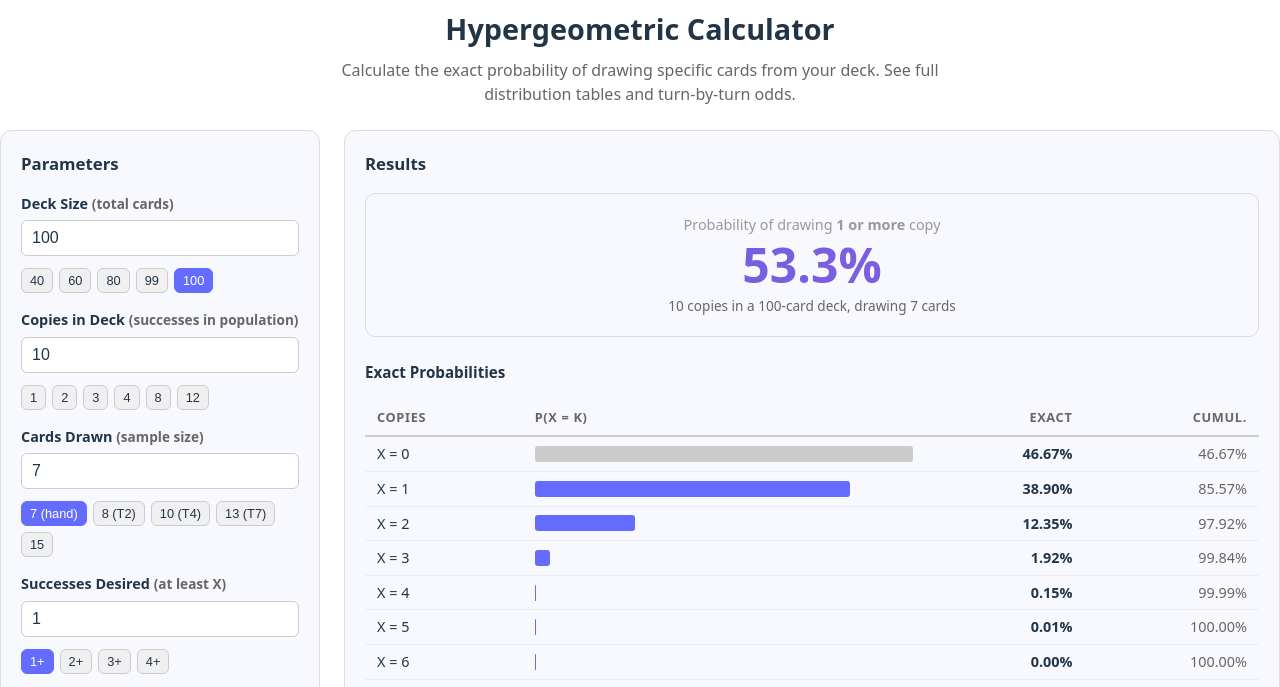
it: HypergeometricCalculator › successes-desired preset updates the headline copy
The image size is (1280, 687).
Click the button "2+": coordinates (76, 662) [60,649,92,674]
(page scrolled)
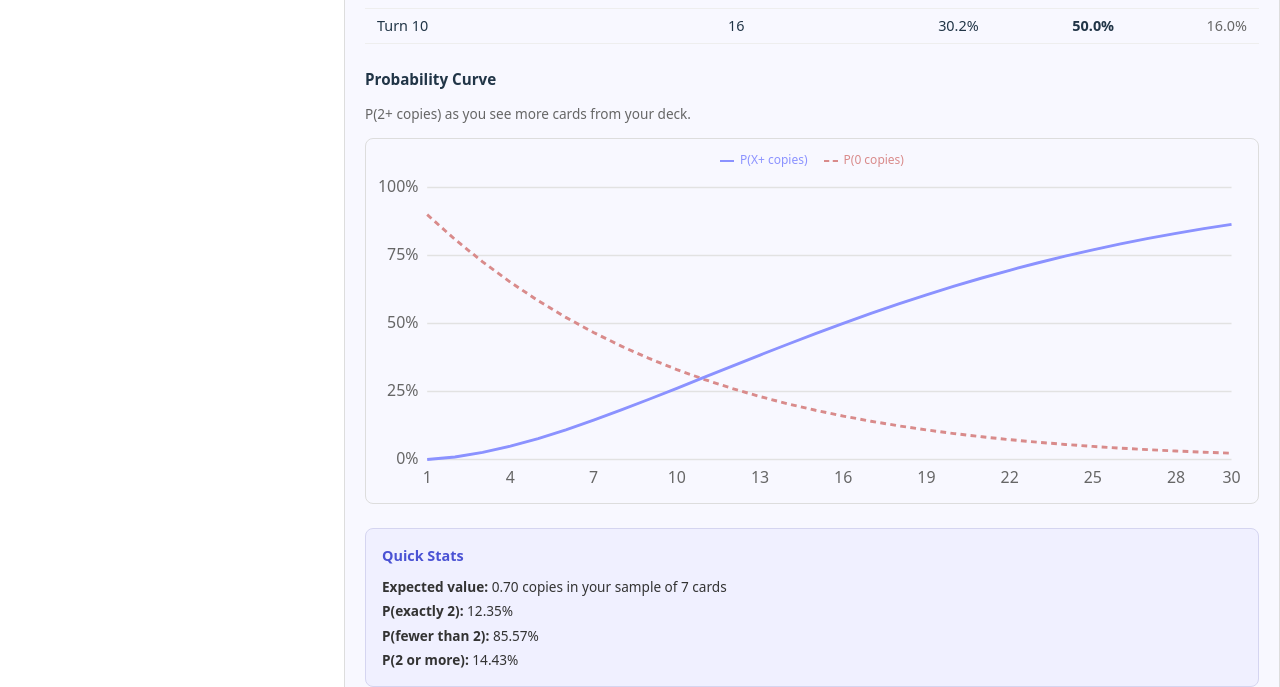
Expected: the text "P(fewer than 2):" is shown, [382,626,489,645]
